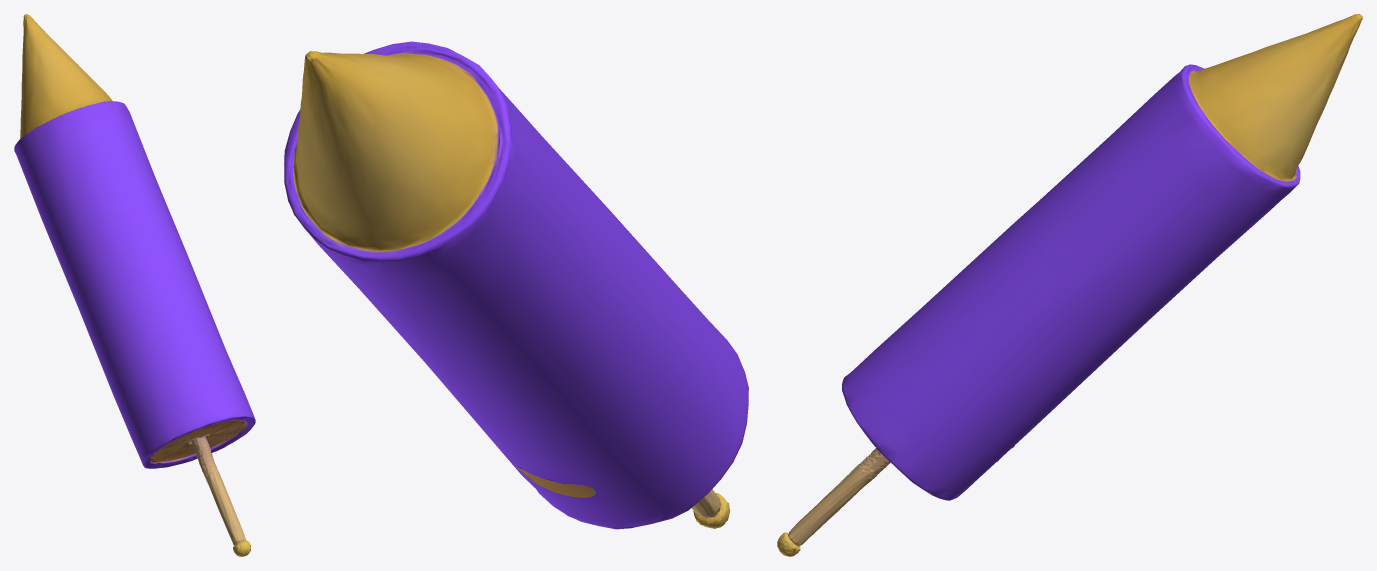
File: r33-rocketfw.glb
3 renders of one model, left to right at view 1: azimuth 30°, elevation 25°; view 2: azimuth 150°, elevation 25°; view 3: azimuth 270°, elevation 25°, orthographic. The views are drawn at different scales.
Parts seen in each view (by area): view 1: tripo_node_693b53f4-91c0-443c-bb9c-349ce7e7e0d4; view 2: tripo_node_693b53f4-91c0-443c-bb9c-349ce7e7e0d4; view 3: tripo_node_693b53f4-91c0-443c-bb9c-349ce7e7e0d4.
Boxes of the visible parts, box(x1,y1,x2,y2) form: tripo_node_693b53f4-91c0-443c-bb9c-349ce7e7e0d4: box(14, 14, 255, 556); tripo_node_693b53f4-91c0-443c-bb9c-349ce7e7e0d4: box(284, 41, 748, 529); tripo_node_693b53f4-91c0-443c-bb9c-349ce7e7e0d4: box(777, 14, 1362, 556).
Size of the model in its own units: 0.2949 by 0.998 by 0.9902.
1 material, 1 textured.
